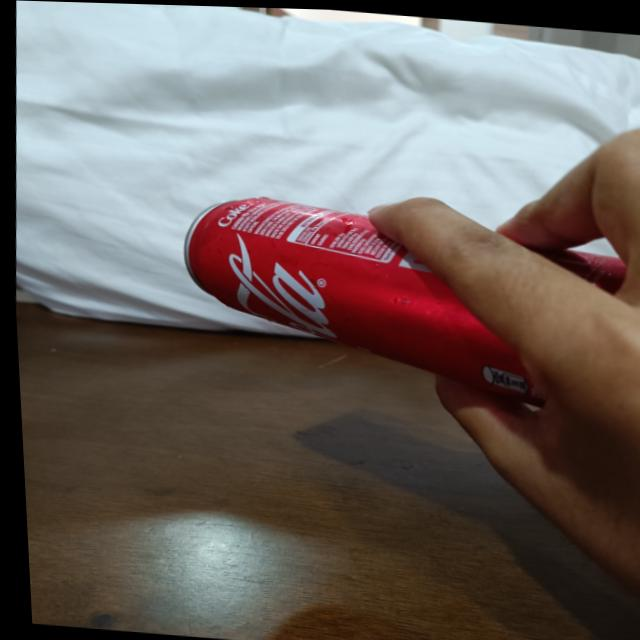coke: (171, 186, 640, 413)
